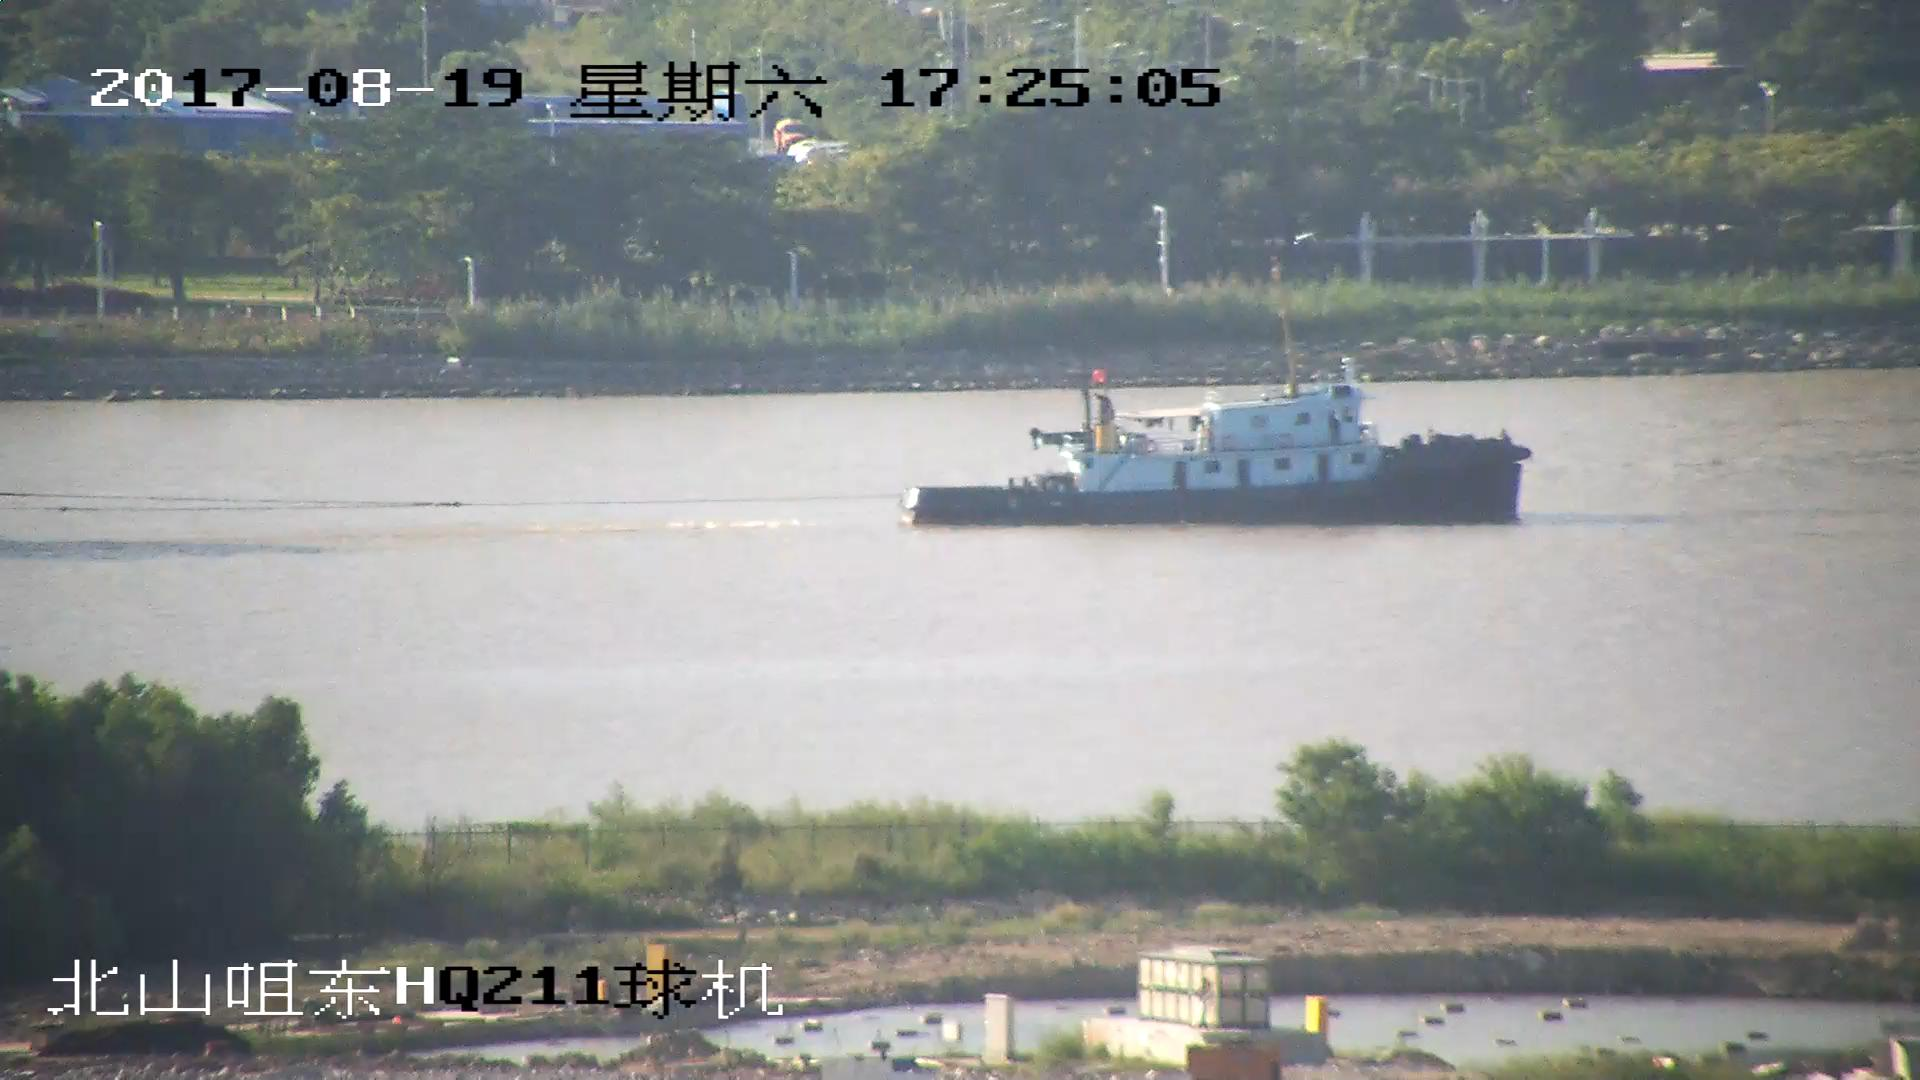fishing boat: (903, 353, 1533, 525)
